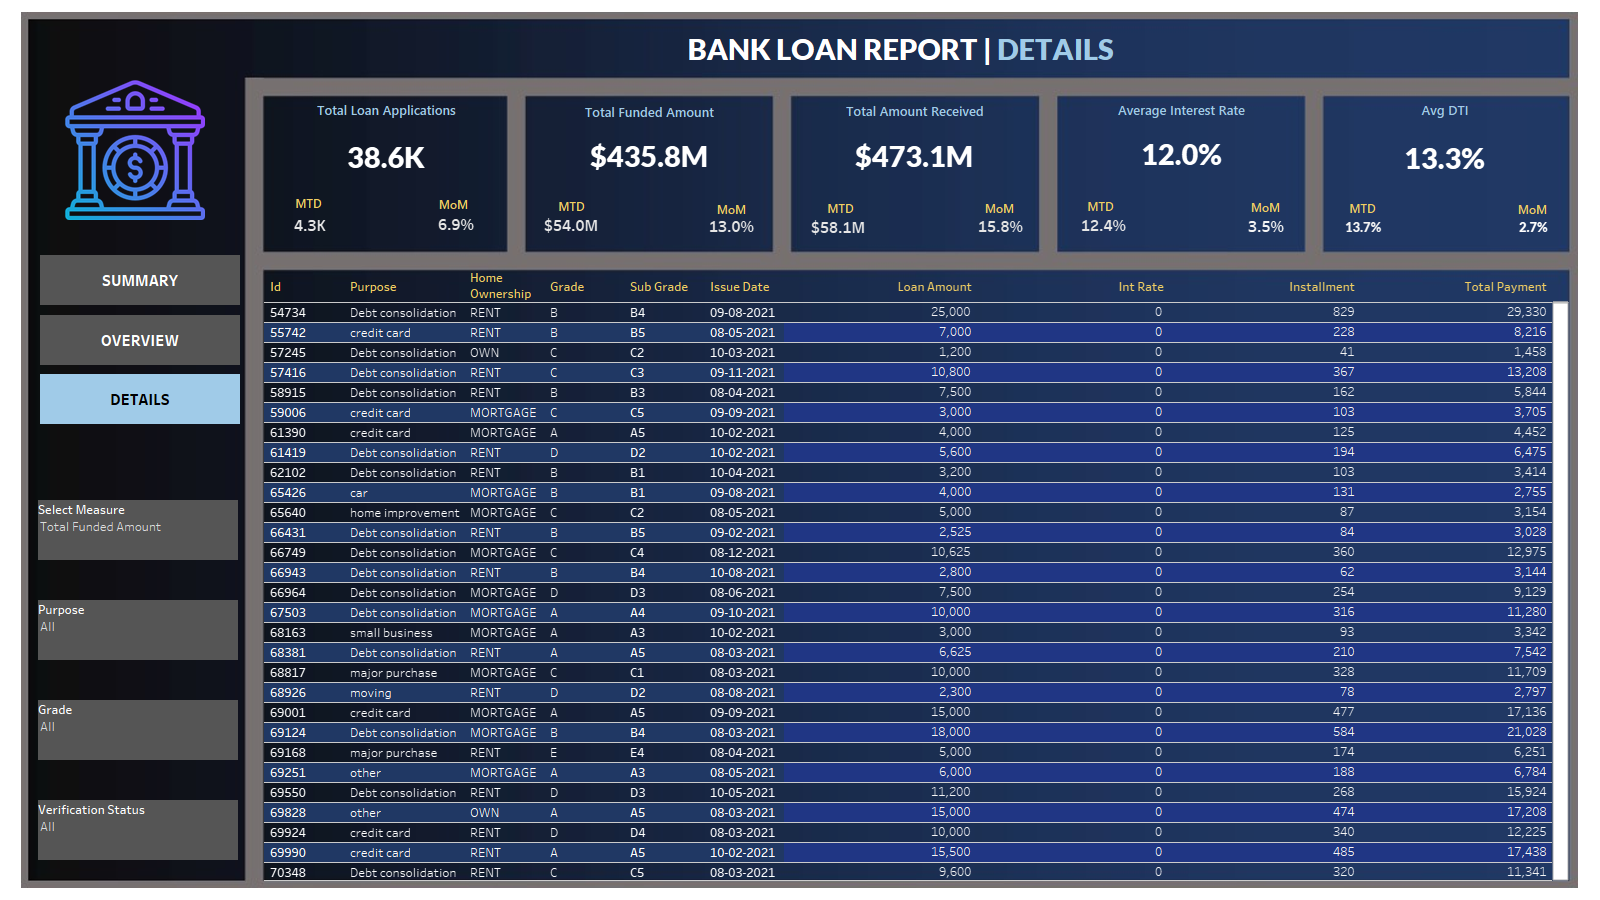

The dashboard page shown, as its layout file describes it:
{"tool":"tableau","page":{"name":"DETAILS","canvas":[1600,900],"ordinal":0},"visuals":[{"type":"image","param":"C:/Users/Khan/Documents/Data Analytics and Science Project/Bank Loan Project/Tab","box":[8,8,1584,884]},{"type":"text","box":[685,32,520,33]},{"type":"image","param":"C:/Users/Khan/AppData/Local/Temp/TableauTemp/0o62nlt0sle9nz1cniugg1dumx9x/Sheets","box":[65,80,140,140]},{"type":"worksheet","title":"Total Loan Applications","mark":"Automatic","box":[265,95,243,92]},{"type":"worksheet","title":"Average Interest Rate","mark":"Automatic","box":[1058,95,247,86]},{"type":"worksheet","title":"Avg DTI","mark":"Automatic","box":[1322,95,246,93]},{"type":"worksheet","title":"Total Amount Received","mark":"Automatic","box":[792,96,246,87]},{"type":"worksheet","title":"Total Funded Amount","mark":"Automatic","box":[526,97,247,86]},{"type":"text","box":[288,195,41,16]},{"type":"text","box":[433,196,41,16]},{"type":"text","box":[551,198,41,16]},{"type":"text","box":[1245,199,41,16]},{"type":"text","box":[820,200,41,16]},{"type":"text","box":[979,200,41,16]},{"type":"text","box":[1080,200,41,13]},{"type":"text","box":[711,201,41,16]},{"type":"text","box":[1512,201,41,16]},{"type":"text","box":[1342,202,41,13]},{"type":"worksheet","title":"MTD Total Funded Amount","mark":"Automatic","box":[539,205,65,41]},{"type":"worksheet","title":"MoM Total Funded Amount","mark":"Automatic","box":[699,208,65,37]},{"type":"worksheet","title":"MTD Total Amount Received","mark":"Automatic","box":[804,208,70,40]},{"type":"worksheet","title":"MTD Average Interest Rate","mark":"Automatic","box":[1076,210,56,31]},{"type":"worksheet","title":"MoM Total Amount Received","mark":"Automatic","box":[970,211,62,32]},{"type":"worksheet","title":"MoM Average Interest Rate","mark":"Automatic","box":[1236,211,60,32]},{"type":"worksheet","title":"MTD Total Loan Applications","mark":"Automatic","box":[287,212,46,28]},{"type":"worksheet","title":"MoM Loan Applications","mark":"Automatic","box":[430,212,53,25]},{"type":"worksheet","title":"MTD Avg DTI","mark":"Automatic","box":[1331,214,65,28]},{"type":"worksheet","title":"MoM Avg DTI","mark":"Automatic","box":[1510,214,48,28]},{"type":"dashboard-object","box":[40,255,200,50]},{"type":"worksheet","title":"Details Tab","mark":"Automatic","rows":["id","purpose","home_ownership","grade","sub_grade","issue_date"],"box":[264,270,1305,611]},{"type":"dashboard-object","box":[40,315,200,50]},{"type":"dashboard-object","box":[40,374,200,50]},{"type":"parameter","param":"[Parameters].[Parameter 1]","box":[38,500,200,60]},{"type":"filter","title":"Average Interest Rate","param":"[federated.1i2p9wj1vrfzpc10etiy51m21jew].[none:purpose:nk]","box":[38,600,200,60]},{"type":"filter","title":"Average Interest Rate","param":"[federated.1i2p9wj1vrfzpc10etiy51m21jew].[none:grade:nk]","box":[38,700,200,60]},{"type":"filter","title":"Average Interest Rate","param":"[federated.1i2p9wj1vrfzpc10etiy51m21jew].[none:verification_status:nk]","box":[38,800,200,60]}]}

Visuals, with their boxes in screenshot pixels (x1, y1, x2, y2), scaled from the page's 1600x900 canvas onto the 1600x900 screenshot:
image: bbox=(8, 8, 1592, 892)
text: bbox=(685, 32, 1205, 65)
image: bbox=(65, 80, 205, 220)
"Total Loan Applications" worksheet: bbox=(265, 95, 508, 187)
"Average Interest Rate" worksheet: bbox=(1058, 95, 1305, 181)
"Avg DTI" worksheet: bbox=(1322, 95, 1568, 188)
"Total Amount Received" worksheet: bbox=(792, 96, 1038, 183)
"Total Funded Amount" worksheet: bbox=(526, 97, 773, 183)
text: bbox=(288, 195, 329, 211)
text: bbox=(433, 196, 474, 212)
text: bbox=(551, 198, 592, 214)
text: bbox=(1245, 199, 1286, 215)
text: bbox=(820, 200, 861, 216)
text: bbox=(979, 200, 1020, 216)
text: bbox=(1080, 200, 1121, 213)
text: bbox=(711, 201, 752, 217)
text: bbox=(1512, 201, 1553, 217)
text: bbox=(1342, 202, 1383, 215)
"MTD Total Funded Amount" worksheet: bbox=(539, 205, 604, 246)
"MoM Total Funded Amount" worksheet: bbox=(699, 208, 764, 245)
"MTD Total Amount Received" worksheet: bbox=(804, 208, 874, 248)
"MTD Average Interest Rate" worksheet: bbox=(1076, 210, 1132, 241)
"MoM Total Amount Received" worksheet: bbox=(970, 211, 1032, 243)
"MoM Average Interest Rate" worksheet: bbox=(1236, 211, 1296, 243)
"MTD Total Loan Applications" worksheet: bbox=(287, 212, 333, 240)
"MoM Loan Applications" worksheet: bbox=(430, 212, 483, 237)
"MTD Avg DTI" worksheet: bbox=(1331, 214, 1396, 242)
"MoM Avg DTI" worksheet: bbox=(1510, 214, 1558, 242)
dashboard-object: bbox=(40, 255, 240, 305)
"Details Tab" worksheet: bbox=(264, 270, 1569, 881)
dashboard-object: bbox=(40, 315, 240, 365)
dashboard-object: bbox=(40, 374, 240, 424)
parameter: bbox=(38, 500, 238, 560)
"Average Interest Rate" filter: bbox=(38, 600, 238, 660)
"Average Interest Rate" filter: bbox=(38, 700, 238, 760)
"Average Interest Rate" filter: bbox=(38, 800, 238, 860)
